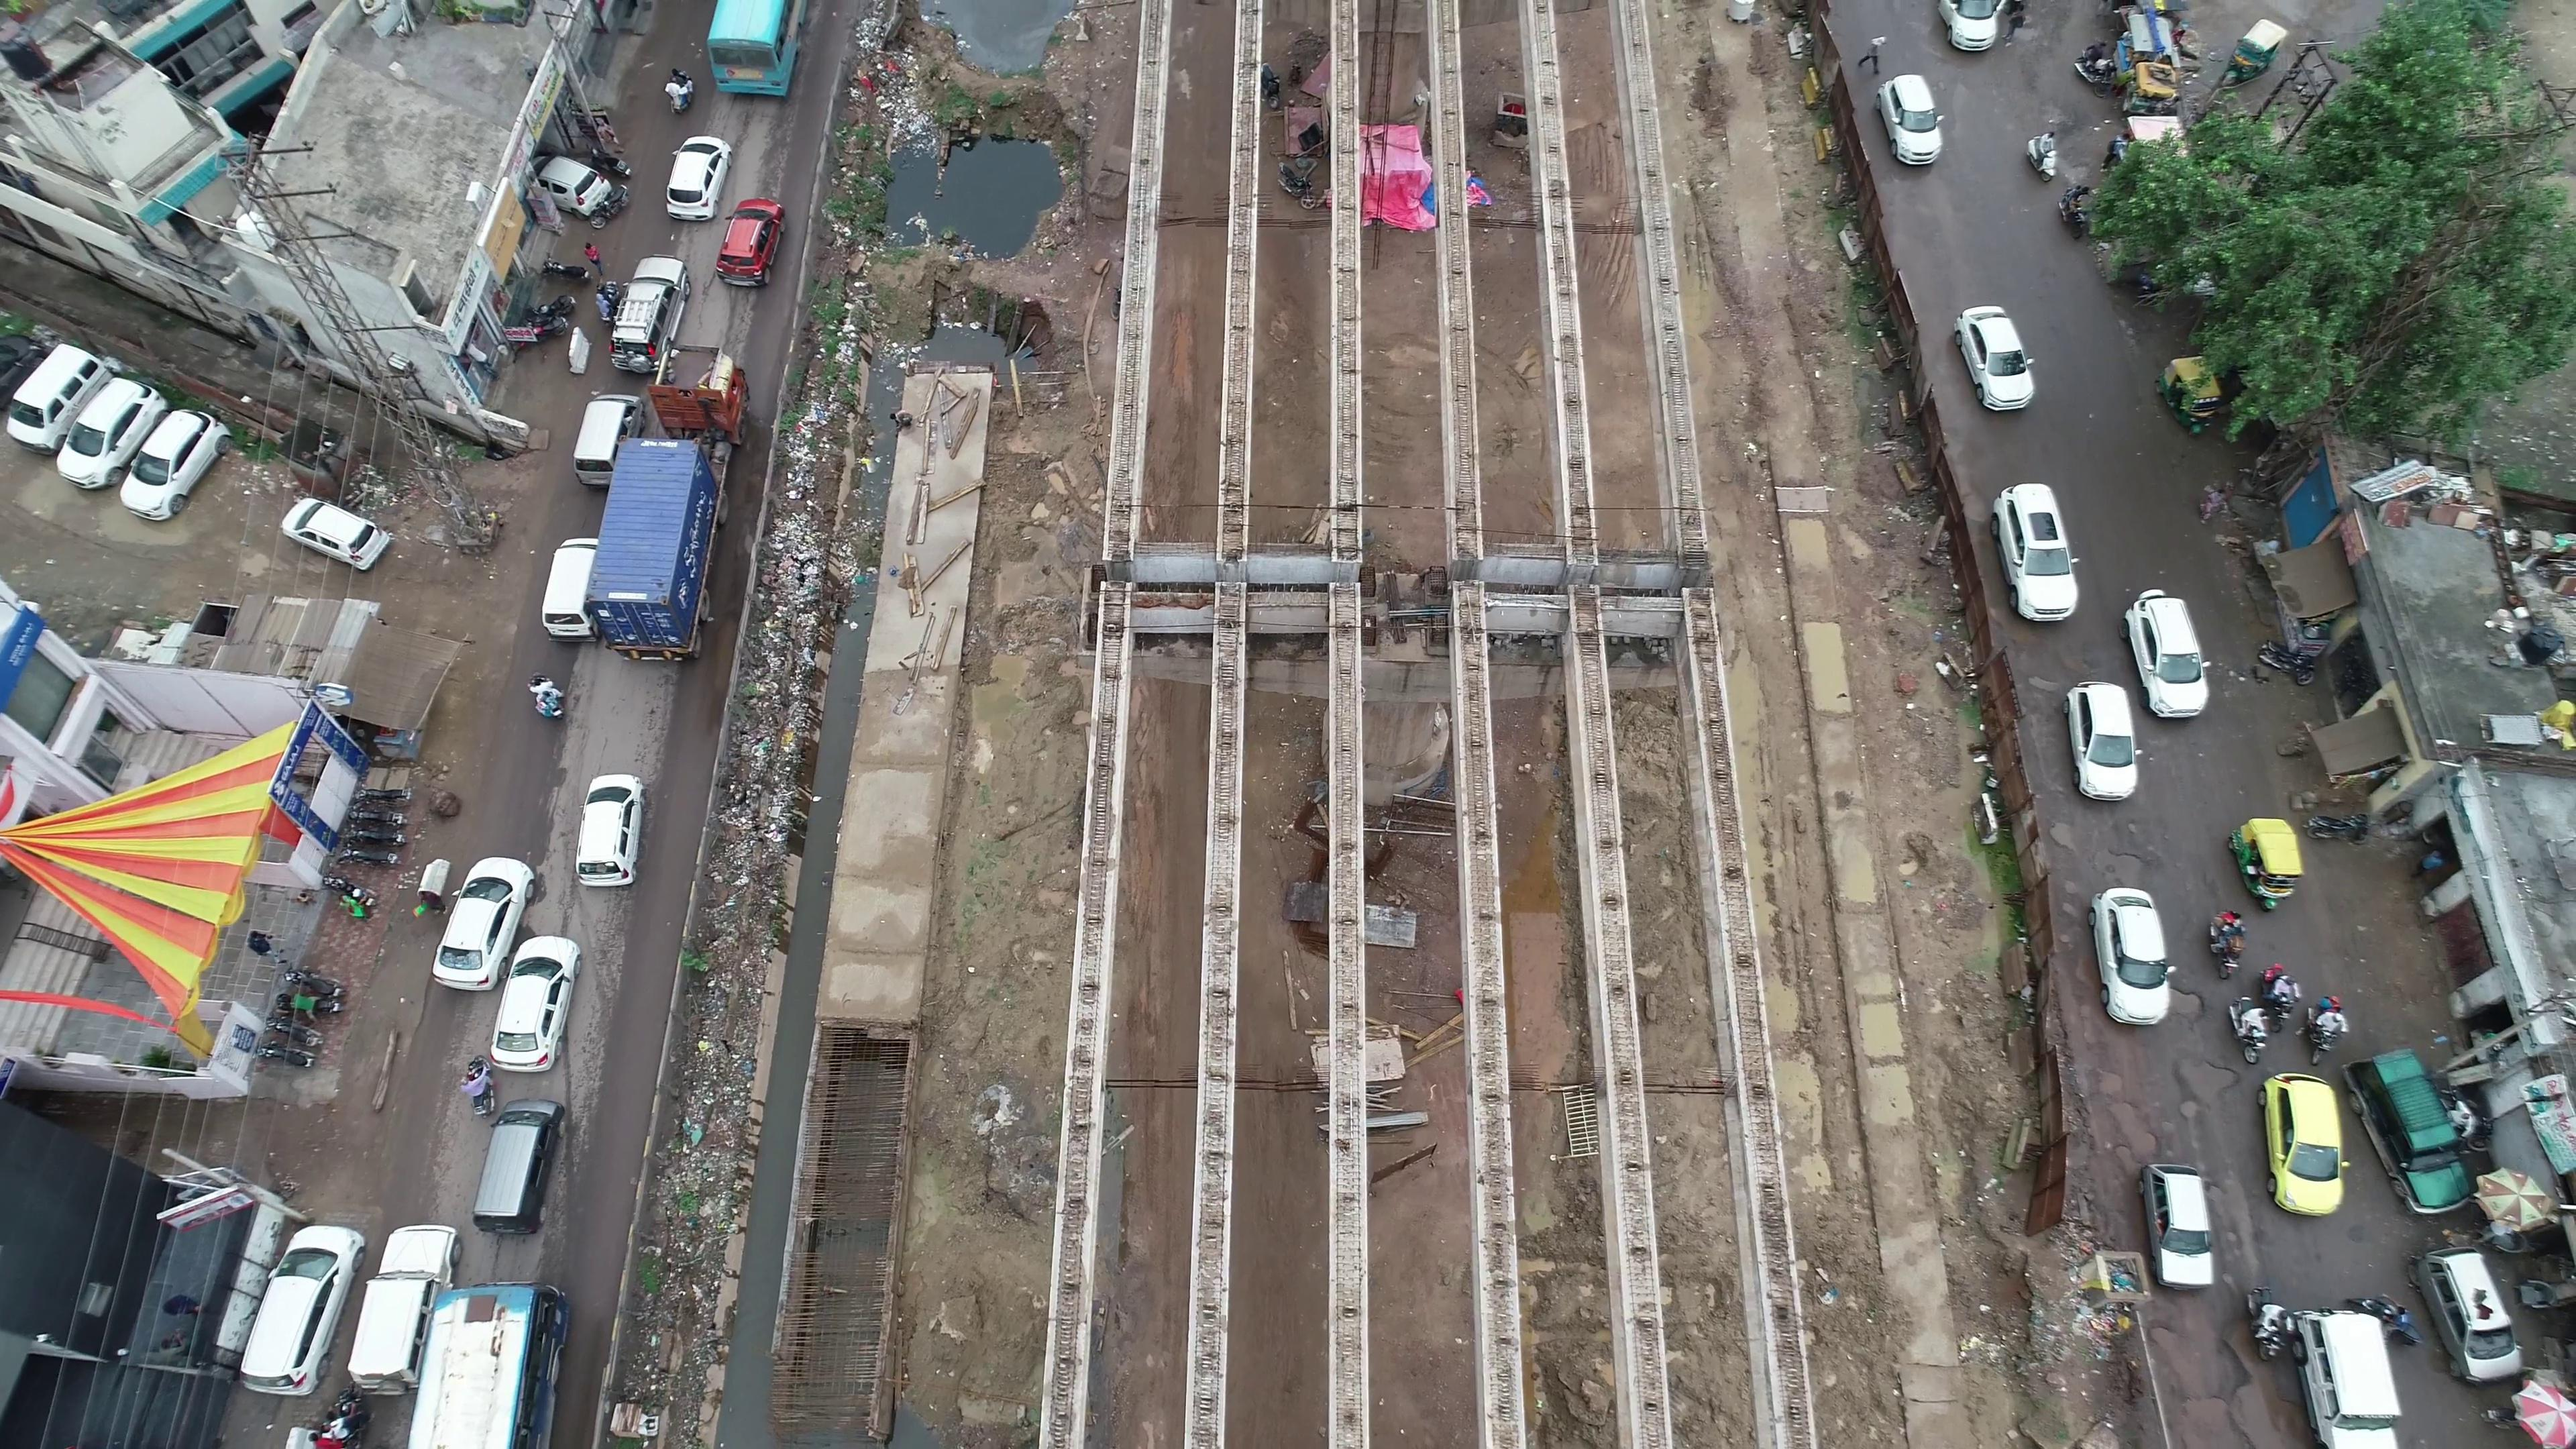Potholes: (2123, 1040, 2263, 1120)
